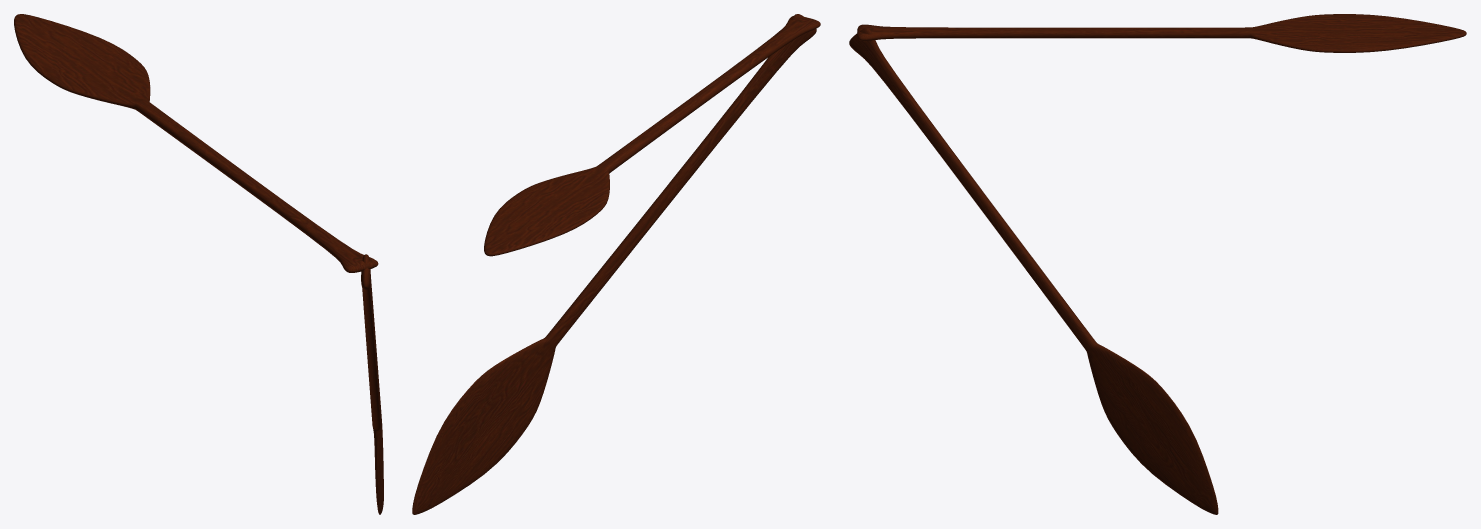
Rendered from Boat Oar_V1.fbx.
3 renders of one model, left to right at view 1: azimuth 30°, elevation 25°; view 2: azimuth 150°, elevation 25°; view 3: azimuth 270°, elevation 25°, orthographic. The views are drawn at different scales.
Visible parts, largest first — view 1: Plane, Plane.001; view 2: Plane.001, Plane; view 3: Plane.001, Plane.
Part boxes in pixels (x1,y1,x2,y2): Plane: (14,14,378,272); Plane.001: (361,254,383,514); Plane.001: (412,14,816,514); Plane: (484,16,820,256); Plane.001: (849,28,1218,514); Plane: (857,14,1466,52).
Bounding box in the file's own units: 675 × 1086 × 1542.
Materials: 1 (1 with a texture image).
